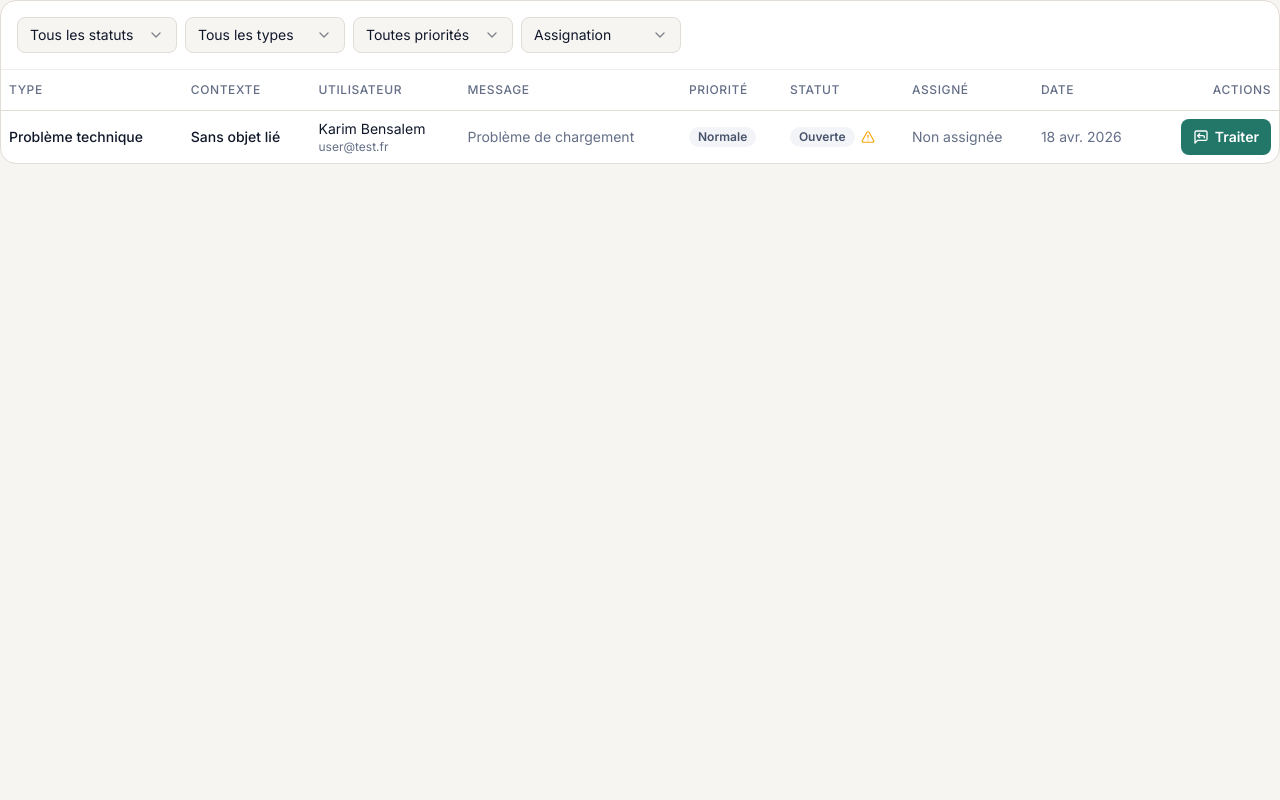
Test: DeskRequestsTable › active le bouton d'envoi avec un texte d'au moins 5 caractères
The image size is (1280, 800).
Click the button "Traiter": (1226, 136) [1181,118,1271,154]
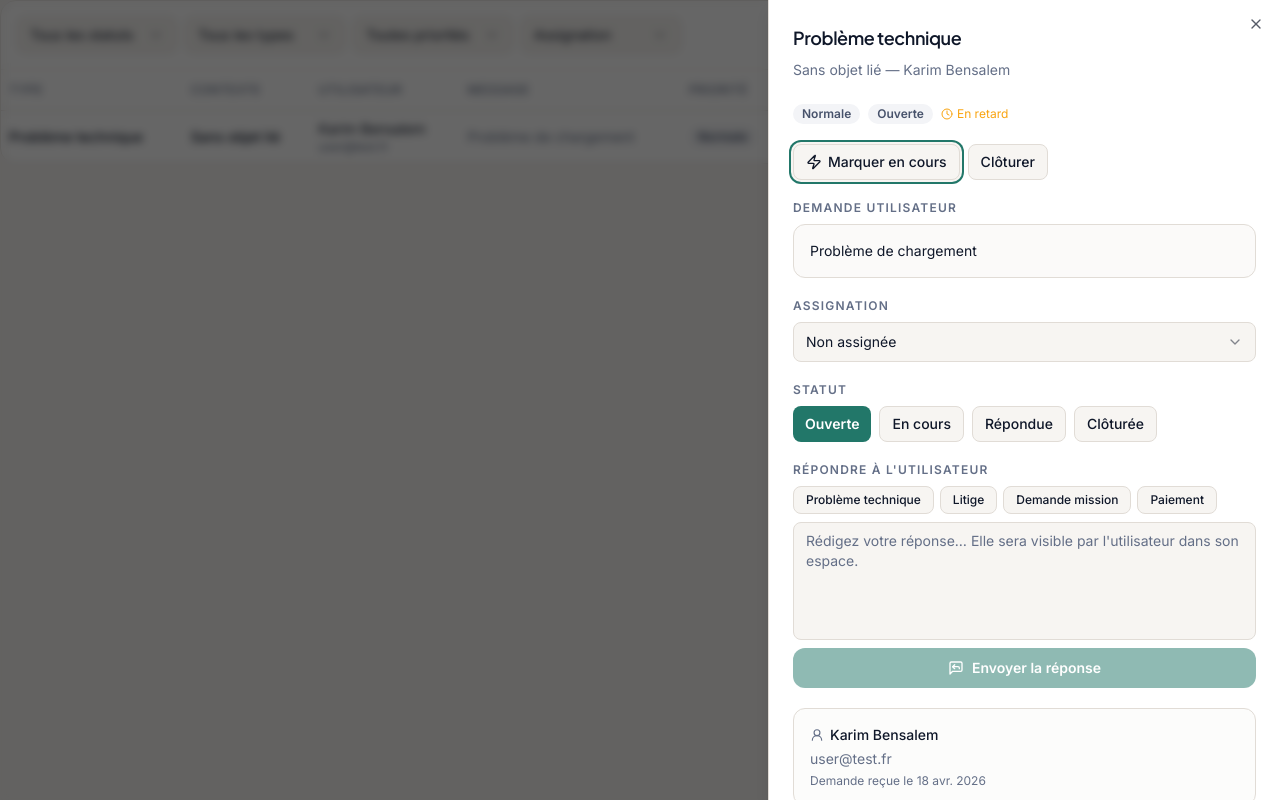
Replace the text in the text box with placeholder "Rédigez votre réponse" with "Réponse suffisamment longue": (1024, 581) [793,522,1256,640]
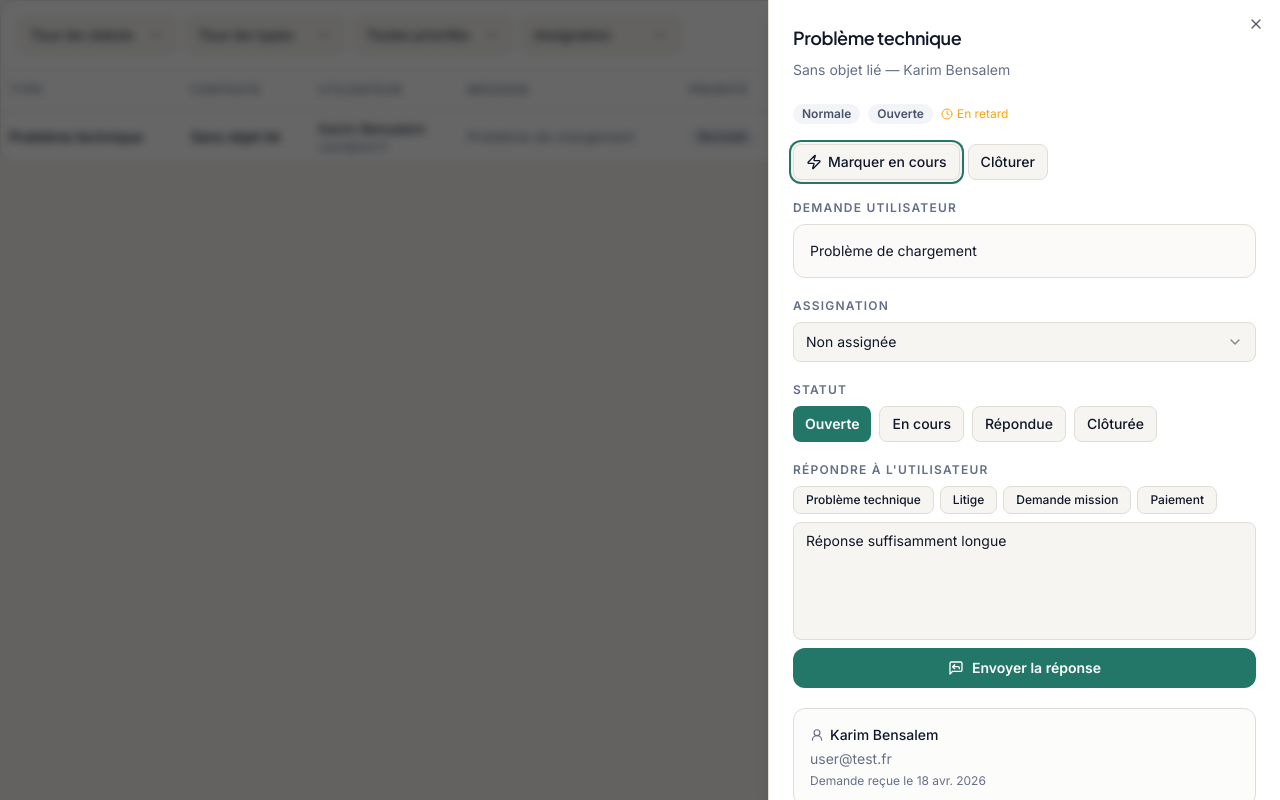
Now the button "Envoyer la réponse" is enabled, box [793,648,1256,688]
